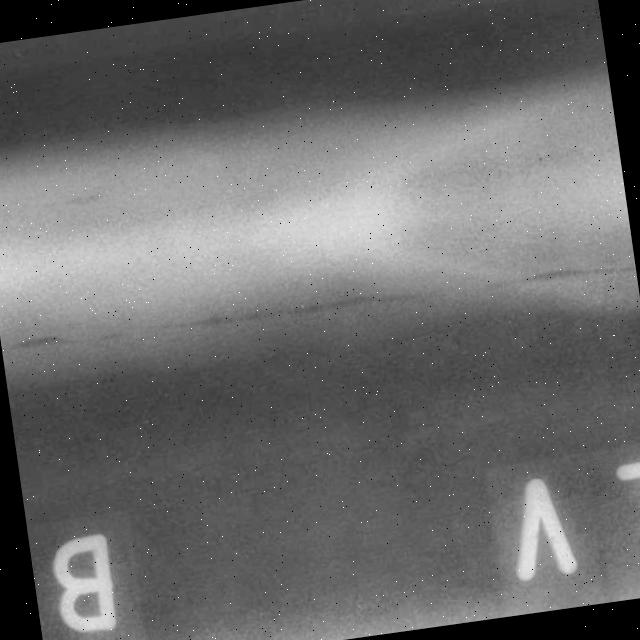LoP-LoF: (0, 228, 639, 381)
